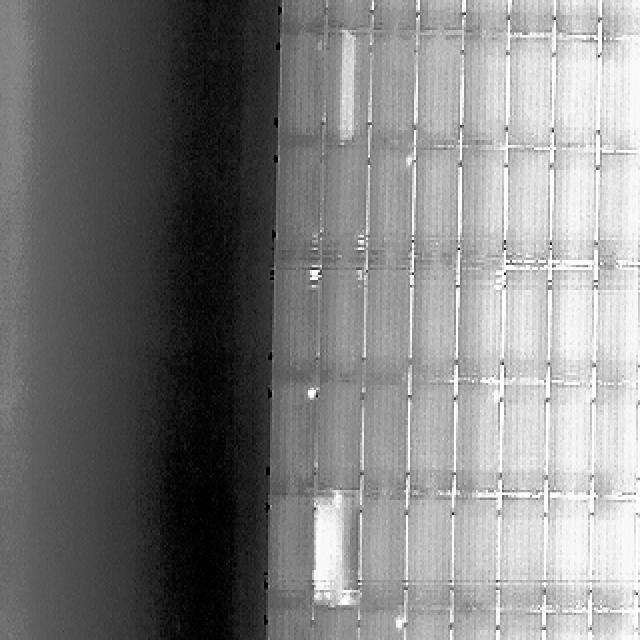Hotspots: (318, 495, 351, 591), (334, 30, 362, 139), (350, 224, 368, 256), (394, 148, 416, 168), (490, 268, 502, 296), (491, 381, 501, 409), (300, 387, 315, 403), (304, 269, 318, 286)
PV-modules: (409, 261, 458, 386), (319, 146, 369, 268), (273, 145, 321, 267), (314, 380, 365, 494), (590, 382, 640, 498), (356, 497, 406, 613), (506, 148, 555, 266), (368, 148, 417, 266), (592, 262, 640, 382), (508, 34, 558, 148), (362, 266, 412, 380), (548, 150, 597, 265), (411, 147, 460, 262), (359, 382, 408, 496), (317, 266, 366, 380), (460, 148, 508, 264), (504, 270, 552, 385), (454, 380, 502, 495), (407, 380, 455, 495), (498, 380, 546, 495), (270, 266, 318, 380), (457, 270, 505, 384), (413, 32, 461, 146), (461, 32, 509, 146), (544, 383, 592, 496), (547, 266, 594, 381), (270, 383, 317, 498), (370, 34, 418, 146), (551, 36, 599, 148), (325, 30, 372, 144), (404, 498, 453, 604), (276, 31, 322, 142), (596, 150, 640, 265), (596, 35, 640, 150), (266, 498, 316, 599), (315, 496, 363, 595), (590, 501, 639, 588), (499, 497, 548, 583), (543, 498, 591, 585), (453, 499, 500, 584), (552, 0, 600, 38), (462, 0, 510, 38), (510, 0, 558, 38), (372, 0, 420, 35), (598, 0, 640, 40), (414, 0, 462, 35), (278, 0, 326, 35), (450, 607, 498, 640), (324, 0, 372, 32), (400, 609, 451, 639), (312, 609, 362, 639), (500, 584, 548, 614), (592, 583, 638, 614), (546, 583, 592, 614), (498, 611, 548, 639), (452, 584, 499, 613), (540, 612, 590, 639), (354, 611, 402, 639), (587, 612, 635, 640), (267, 612, 312, 640), (634, 382, 640, 498), (634, 500, 640, 608), (636, 610, 640, 640)
